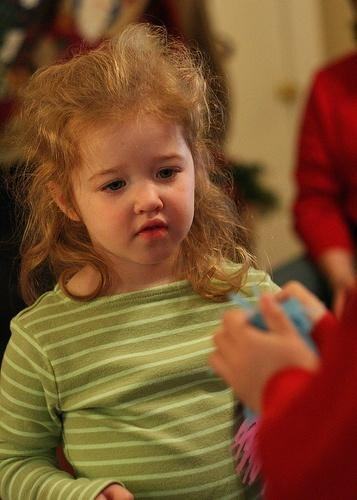face: (75, 104, 193, 266)
hand: (198, 281, 319, 412)
